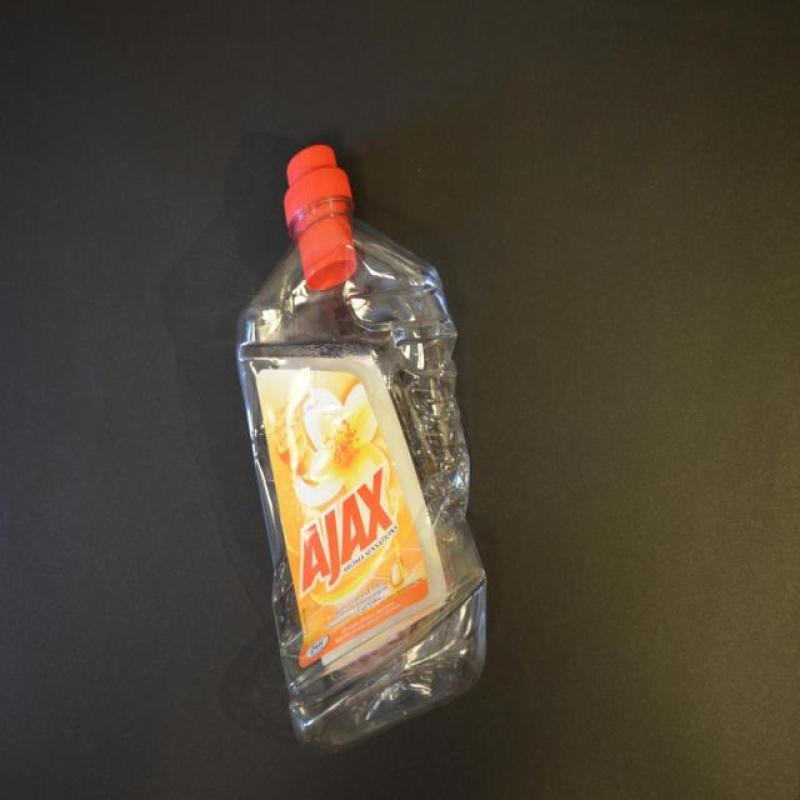botella: (235, 145, 486, 757)
